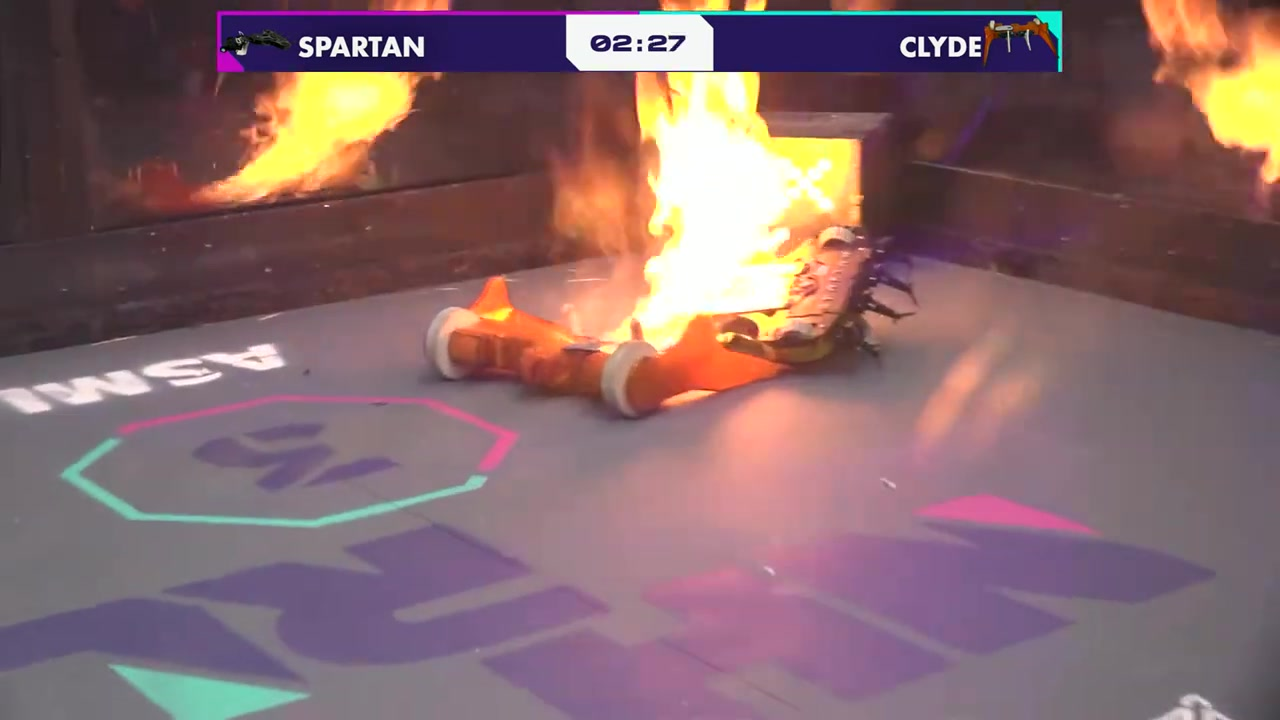combatbot: (425, 275, 667, 419), (775, 232, 878, 360)
